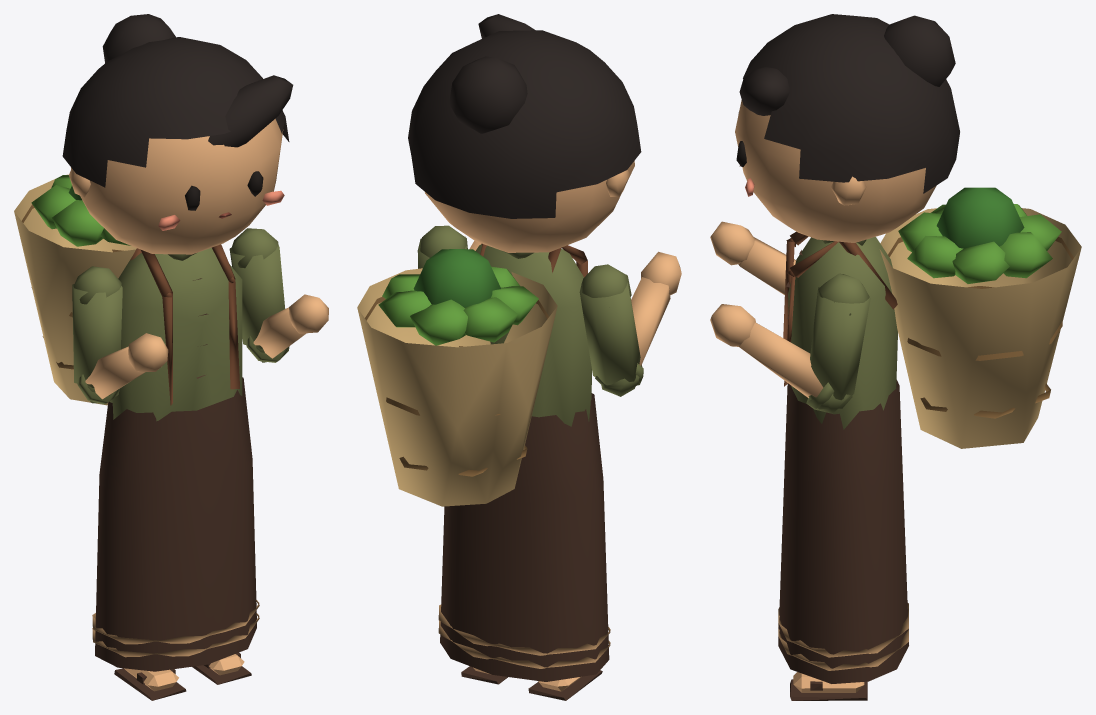
File: north_tea_picker.glb
3 renders of one model, left to right at view 1: azimuth 30°, elevation 25°; view 2: azimuth 150°, elevation 25°; view 3: azimuth 270°, elevation 25°, orthographic. The views are drawn at different scales.
Visible parts, largest first — view 1: body, head, arm_R, arm_L, forearm_R, forearm_L, shin_R, shin_L; view 2: body, head, arm_R, forearm_R, arm_L, shin_R; view 3: body, head, arm_L, forearm_L, forearm_R, shin_L.
Boxes of the visible parts, box(x1,y1,x2,y2) form: body: box(14, 174, 259, 671); head: box(62, 14, 293, 254); arm_R: box(72, 266, 122, 403); arm_L: box(229, 228, 285, 362); forearm_R: box(77, 333, 168, 404); forearm_L: box(246, 294, 328, 362); shin_R: box(114, 668, 186, 700); shin_L: box(192, 652, 251, 684); body: box(357, 243, 610, 681); head: box(408, 14, 641, 252); arm_R: box(579, 264, 642, 396); forearm_R: box(601, 251, 681, 395); arm_L: box(417, 225, 467, 268); shin_R: box(528, 670, 602, 700); body: box(778, 187, 1081, 683); head: box(735, 14, 959, 242); arm_L: box(808, 273, 870, 413); forearm_L: box(710, 304, 852, 409); forearm_R: box(710, 221, 796, 295); shin_L: box(790, 672, 867, 700).
Size of the model in its own units: 0.5148 by 1.47 by 0.7535.
